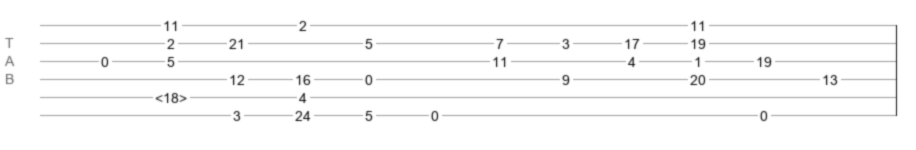0: (101, 54, 109, 64), (365, 72, 373, 82), (431, 108, 439, 118), (760, 108, 768, 118)
1: (694, 54, 702, 64)
11: (163, 18, 179, 28), (492, 54, 508, 64), (690, 18, 706, 28)
12: (229, 72, 245, 82)
13: (822, 72, 838, 82)
16: (295, 72, 311, 82)
17: (624, 36, 640, 46)
19: (690, 36, 706, 46), (756, 54, 772, 64)
2: (167, 36, 175, 46), (299, 18, 307, 28)
20: (690, 72, 706, 82)
21: (229, 36, 245, 46)
24: (295, 108, 311, 118)
3: (233, 108, 241, 118), (562, 36, 570, 46)
4: (299, 90, 307, 100), (628, 54, 636, 64)
5: (167, 54, 175, 64), (365, 108, 373, 118), (365, 36, 373, 46)
7: (496, 36, 504, 46)
9: (562, 72, 570, 82)
harmonic: (155, 90, 187, 100)
